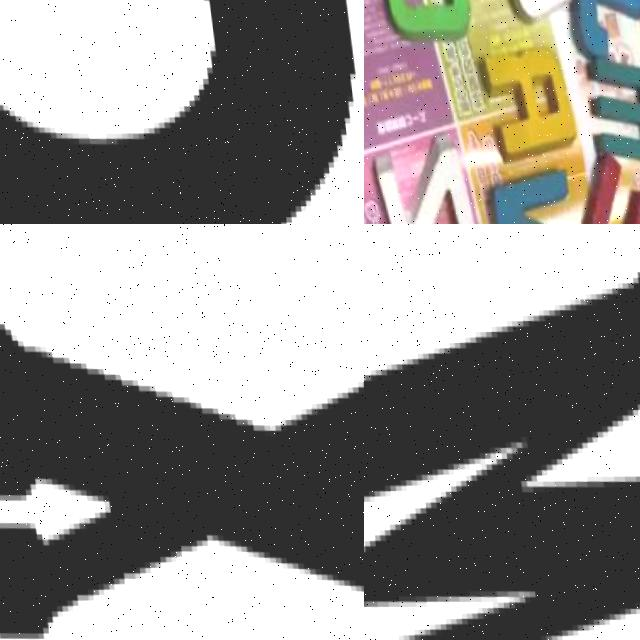C: (0, 0, 349, 224), (372, 0, 472, 40)
J: (568, 0, 640, 57)
M: (364, 230, 640, 640), (579, 51, 640, 164)
R: (468, 33, 573, 158)
U: (569, 154, 640, 224)
V: (476, 155, 572, 224)
X: (0, 289, 364, 640)
Z: (364, 128, 478, 224)
